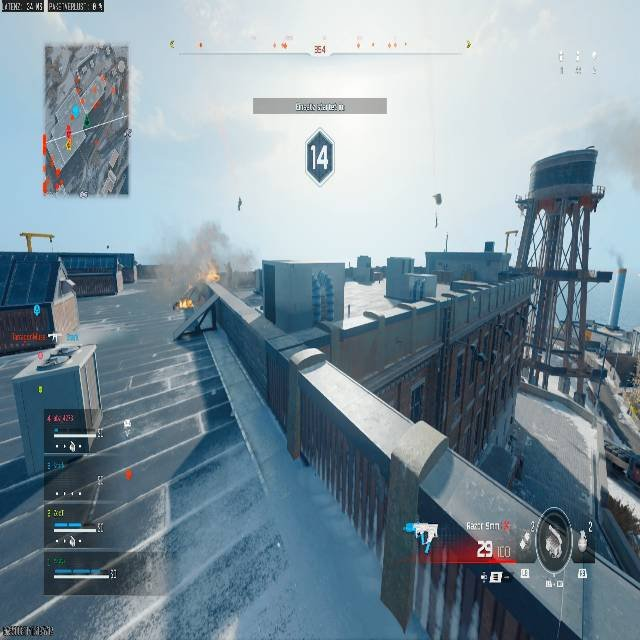player: (171, 280, 222, 344)
